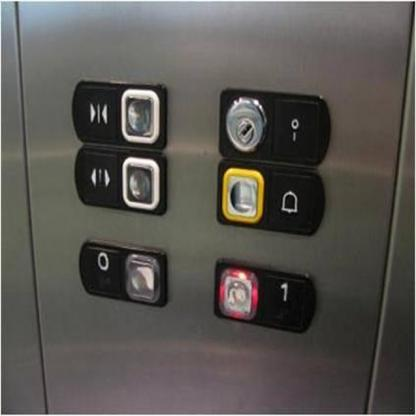0: (76, 235, 170, 308)
1: (211, 256, 321, 337)
alarm: (214, 155, 325, 237)
close: (68, 74, 168, 150)
keyhole: (216, 85, 331, 170)
open: (73, 142, 169, 217)
